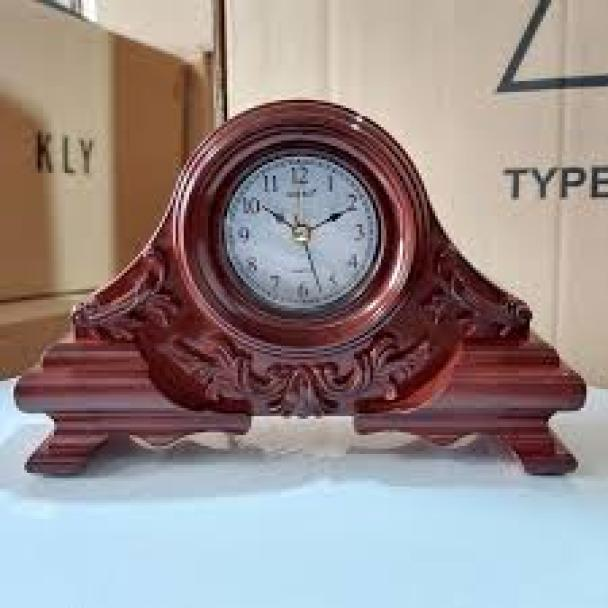Jam: (174, 97, 426, 356)
